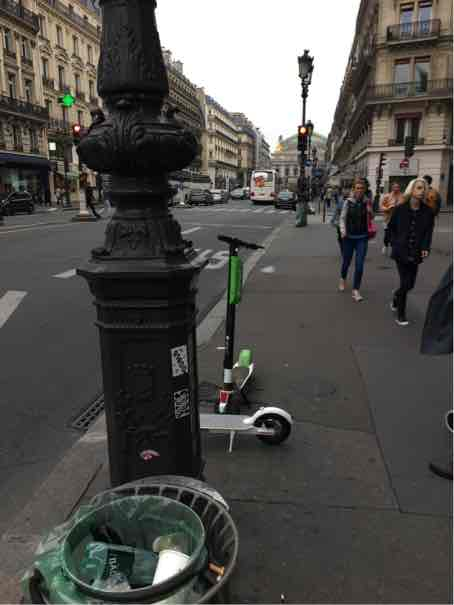scooter: (207, 228, 269, 415)
